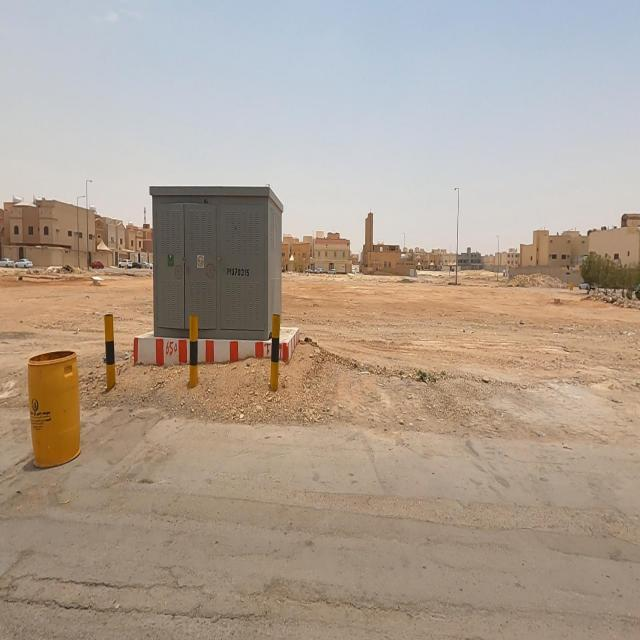debris: (76, 257, 119, 311)
